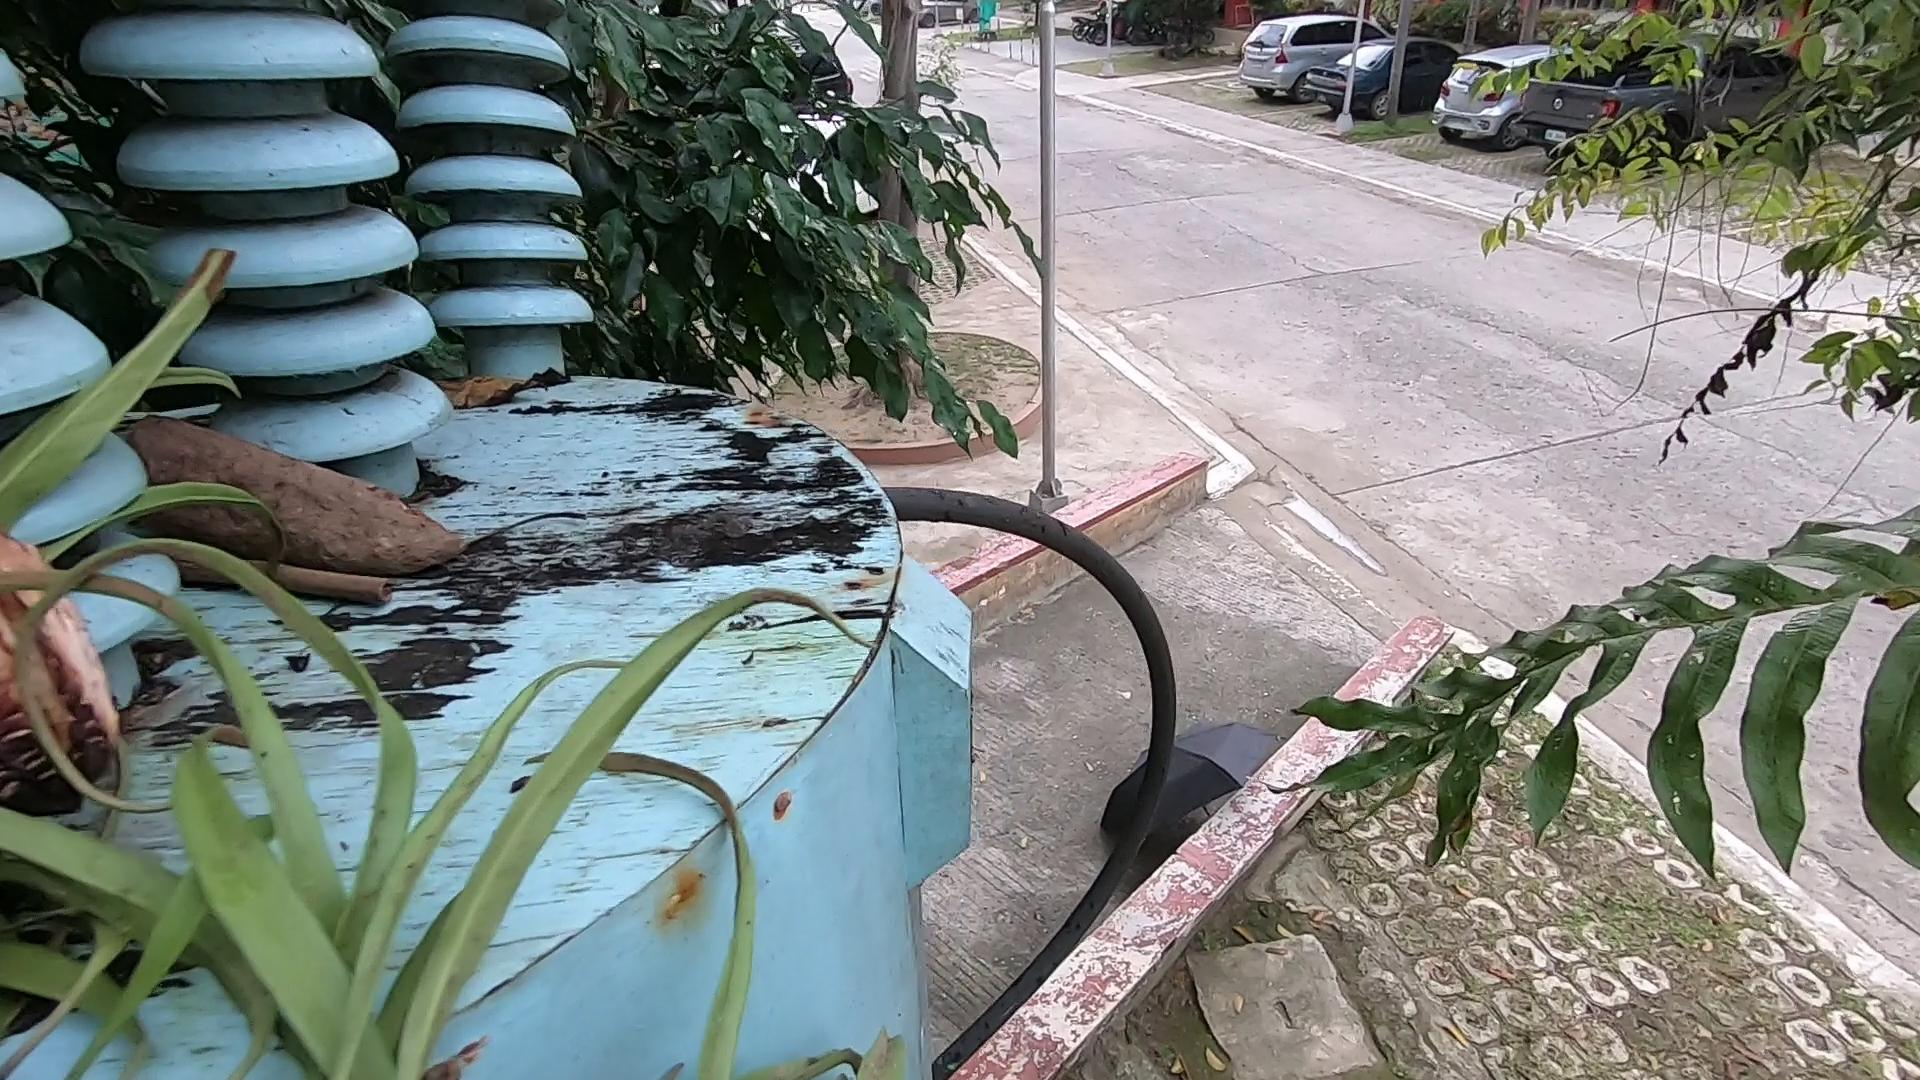leaf: (1, 686, 978, 1080), (443, 375, 562, 402)
mahogany fruit: (12, 487, 220, 857), (137, 398, 464, 585)
tree branch: (200, 541, 392, 609)
